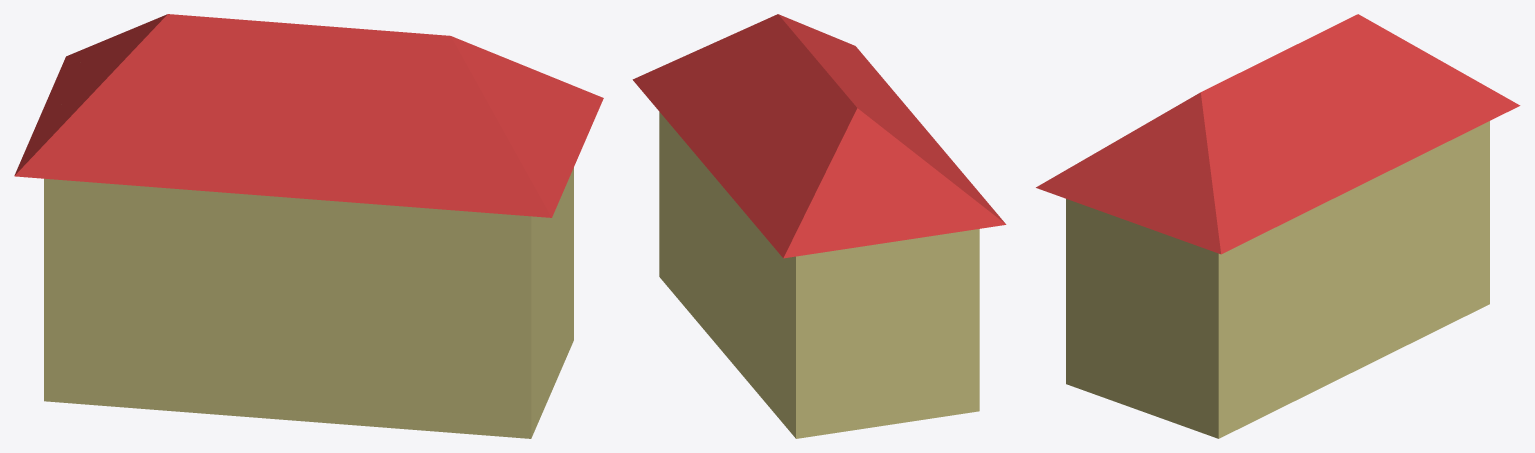
The picture shows the model from 3 angles, left to right: view 1: azimuth 30°, elevation 25°; view 2: azimuth 150°, elevation 25°; view 3: azimuth 270°, elevation 25°; orthographic projection. The views are drawn at different scales.
Parts seen in each view (by area): view 1: group_5, group_3, group_4; view 2: group_5, group_3, group_4; view 3: group_5, group_3, group_4.
Part boxes in pixels (x1,y1,x2,y2): group_5: (44, 167, 573, 438); group_3: (15, 14, 573, 217); group_4: (14, 48, 603, 217); group_5: (659, 112, 979, 438); group_3: (632, 14, 1004, 257); group_4: (635, 40, 1005, 258); group_5: (1066, 121, 1489, 438); group_3: (1068, 14, 1520, 254); group_4: (1036, 88, 1514, 254).
Bounding box in the file's own units: 23.45 × 22.3 × 14.79.
